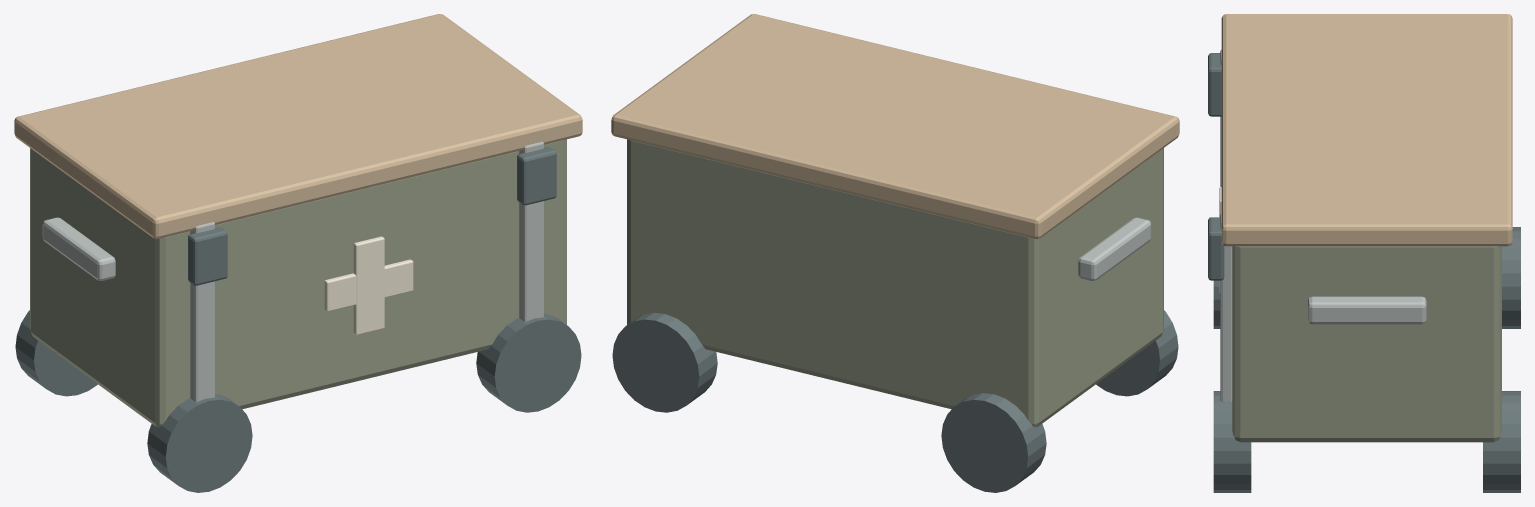
The picture shows the model from 3 angles, left to right: view 1: azimuth 30°, elevation 25°; view 2: azimuth 150°, elevation 25°; view 3: azimuth 270°, elevation 25°; orthographic projection. The views are drawn at different scales.
Parts seen in each view (by area): view 1: supply trunk, flat reinforced lid, castor, castor.002, front reinforcement, front reinforcement.001, medical cross vertical, castor.001, side carry handle, latch, latch.001, medical cross horizontal; view 2: supply trunk, flat reinforced lid, castor.001, castor.003, castor, side carry handle; view 3: flat reinforced lid, supply trunk, side carry handle.001, castor.003, castor.002, front reinforcement.001, castor.001, latch.001, latch, castor.
Boxes of the visible parts, left/top/right/bottom form: supply trunk: left=30, top=139, right=566, bottom=427; flat reinforced lid: left=14, top=14, right=582, bottom=238; castor: left=147, top=393, right=252, bottom=492; castor.002: left=476, top=313, right=581, bottom=412; front reinforcement: left=190, top=222, right=214, bottom=401; front reinforcement.001: left=519, top=142, right=543, bottom=321; medical cross vertical: left=353, top=236, right=384, bottom=335; castor.001: left=15, top=310, right=97, bottom=396; side carry handle: left=42, top=217, right=115, bottom=280; latch: left=188, top=227, right=227, bottom=285; latch.001: left=517, top=147, right=556, bottom=205; medical cross horizontal: left=324, top=259, right=413, bottom=311; supply trunk: left=627, top=139, right=1163, bottom=427; flat reinforced lid: left=611, top=14, right=1179, bottom=238; castor.001: left=941, top=393, right=1046, bottom=492; castor.003: left=612, top=312, right=717, bottom=412; castor: left=1096, top=310, right=1178, bottom=396; side carry handle: left=1078, top=217, right=1151, bottom=280; flat reinforced lid: left=1221, top=14, right=1512, bottom=246; supply trunk: left=1232, top=246, right=1501, bottom=442; side carry handle.001: left=1308, top=296, right=1426, bottom=324; castor.003: left=1483, top=391, right=1520, bottom=492; castor.002: left=1213, top=391, right=1251, bottom=492; front reinforcement.001: left=1220, top=213, right=1232, bottom=401; castor.001: left=1502, top=227, right=1520, bottom=328; latch.001: left=1208, top=217, right=1224, bottom=280; latch: left=1208, top=53, right=1221, bottom=116; castor: left=1213, top=280, right=1220, bottom=328.
Size of the model in its own units: 1 by 0.5875 by 0.58.
